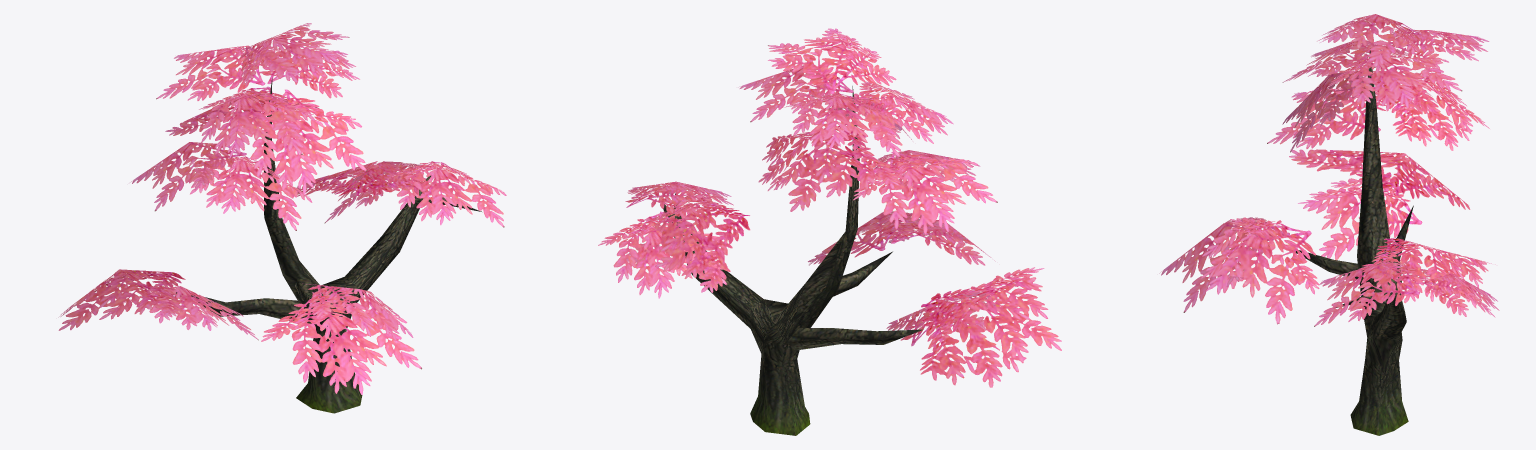
The model's file is c5_tree_4.FBX.
3 renders of one model, left to right at view 1: azimuth 30°, elevation 25°; view 2: azimuth 150°, elevation 25°; view 3: azimuth 270°, elevation 25°, orthographic. The views are drawn at different scales.
Visible parts, largest first — view 1: c5_tree_4; view 2: c5_tree_4; view 3: c5_tree_4.
Part boxes in pixels (x1,y1,x2,y2): c5_tree_4: (58,23,506,413); c5_tree_4: (598,28,1061,435); c5_tree_4: (1159,14,1499,435).
Bounding box in the file's own units: 407 × 295 × 287.
